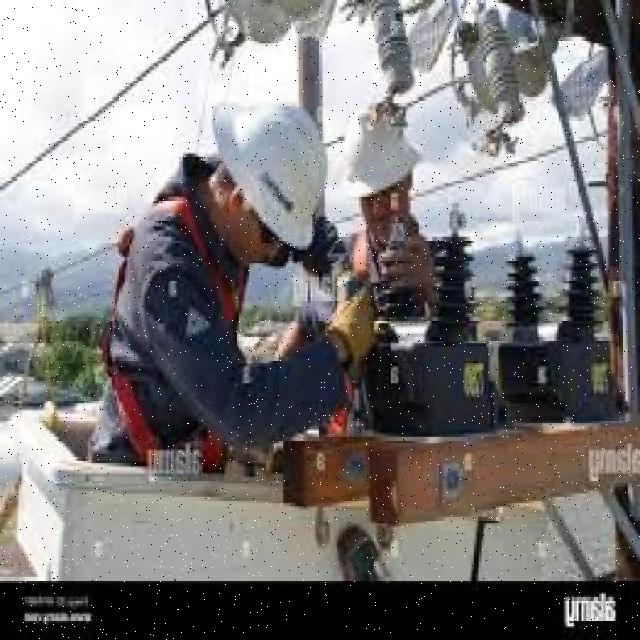Hard_hat: (213, 98, 328, 243)
